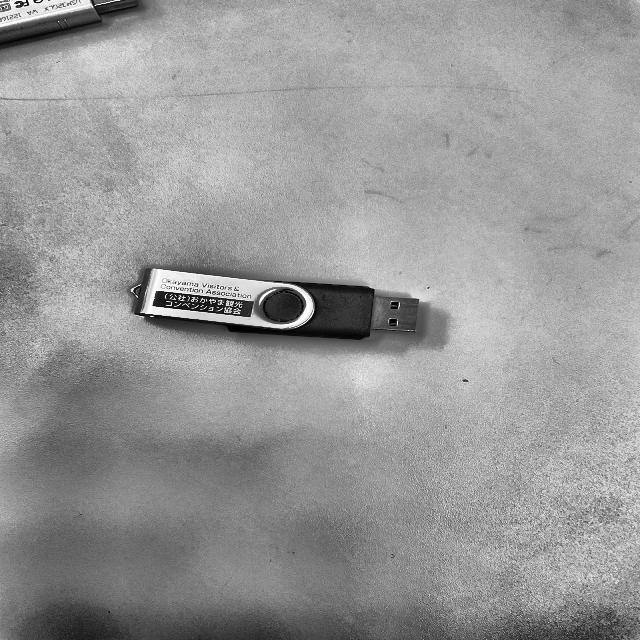Mug: (108, 253, 448, 356)
